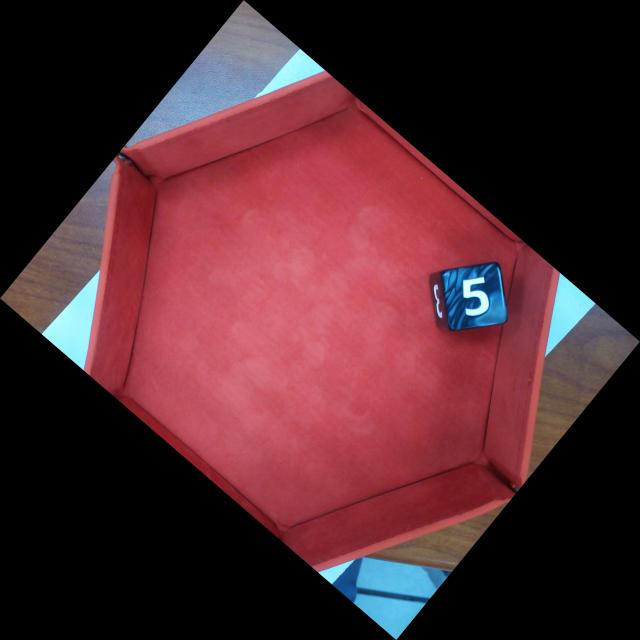dice: (440, 261, 509, 332)
